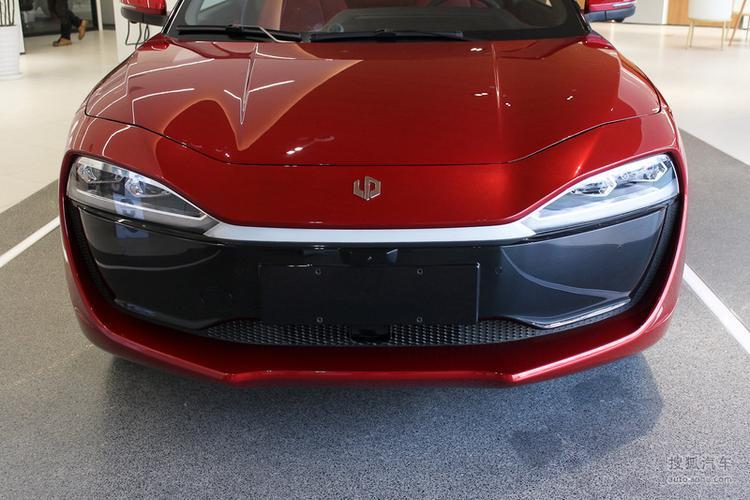LEAPMOTOR: (352, 175, 381, 202)
